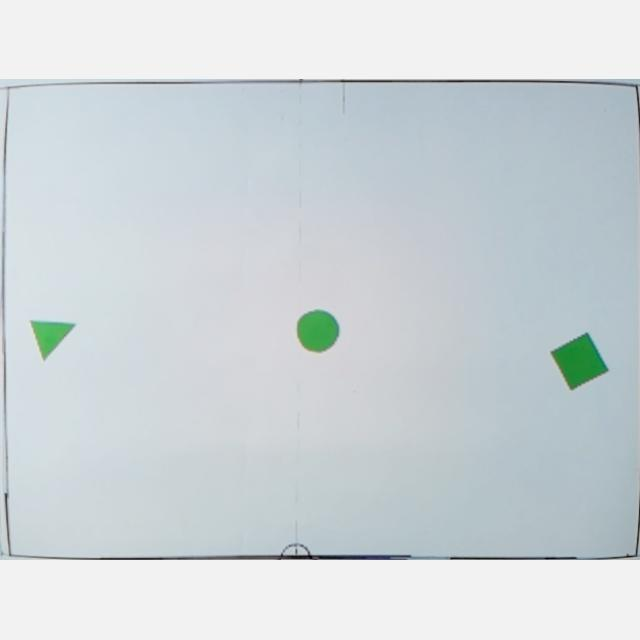greenCircle: (296, 311, 340, 355)
greenSquare: (550, 334, 608, 394)
greenTriangle: (27, 318, 78, 362)
